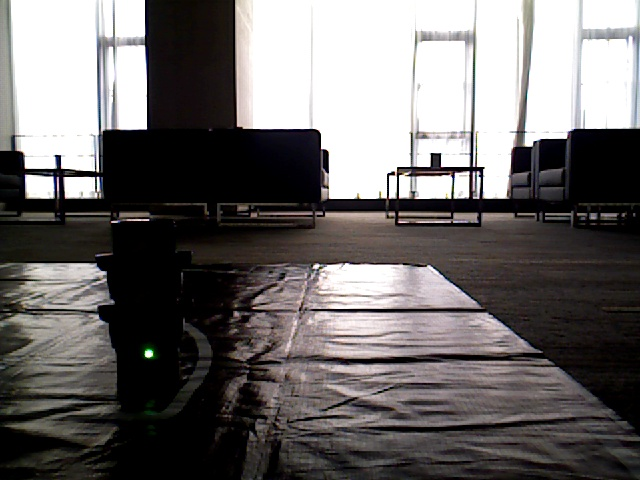green: (116, 224, 176, 376)
